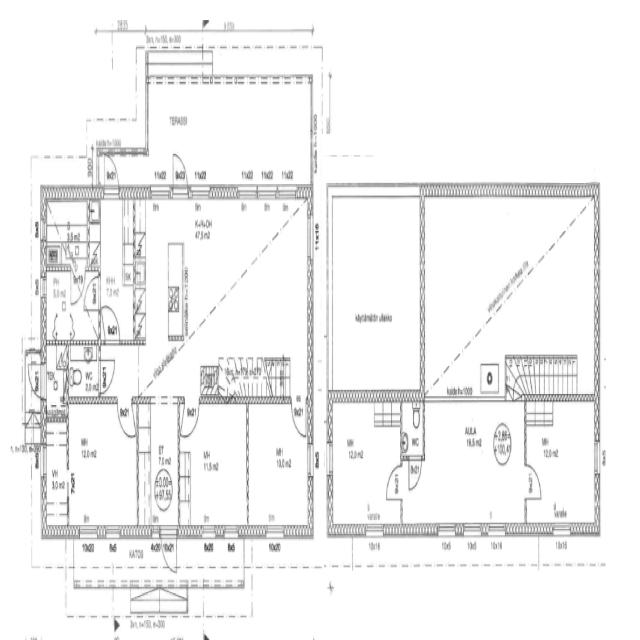door: (100, 304, 120, 387), (401, 399, 424, 463), (102, 150, 120, 199), (181, 394, 201, 438), (171, 148, 189, 196), (160, 526, 177, 575), (273, 182, 299, 214), (524, 458, 544, 499), (383, 460, 403, 500), (102, 301, 121, 343), (117, 394, 135, 438), (98, 353, 116, 395), (27, 356, 43, 399), (84, 272, 100, 312), (291, 398, 307, 437), (407, 454, 423, 492), (70, 268, 85, 305)
window: (273, 181, 299, 209), (304, 209, 314, 261), (254, 181, 276, 204), (237, 182, 258, 205), (102, 520, 123, 543), (222, 519, 242, 543), (76, 523, 100, 543), (436, 519, 457, 540), (189, 181, 211, 201), (149, 183, 170, 203), (462, 518, 483, 538), (264, 523, 286, 542), (486, 519, 506, 539), (200, 522, 217, 544), (551, 521, 571, 539), (593, 432, 601, 476), (326, 434, 334, 478), (364, 522, 384, 538), (306, 439, 314, 479), (38, 210, 46, 246), (37, 273, 44, 301)
zone: (188, 196, 310, 340), (524, 396, 598, 529), (328, 400, 402, 531), (66, 396, 138, 530), (179, 400, 250, 532), (247, 401, 310, 530), (136, 198, 183, 342), (96, 195, 136, 337), (138, 400, 179, 530), (42, 199, 90, 268), (44, 416, 68, 532), (42, 266, 72, 342), (42, 340, 68, 416), (68, 340, 100, 401), (400, 400, 425, 460), (26, 349, 43, 408)
